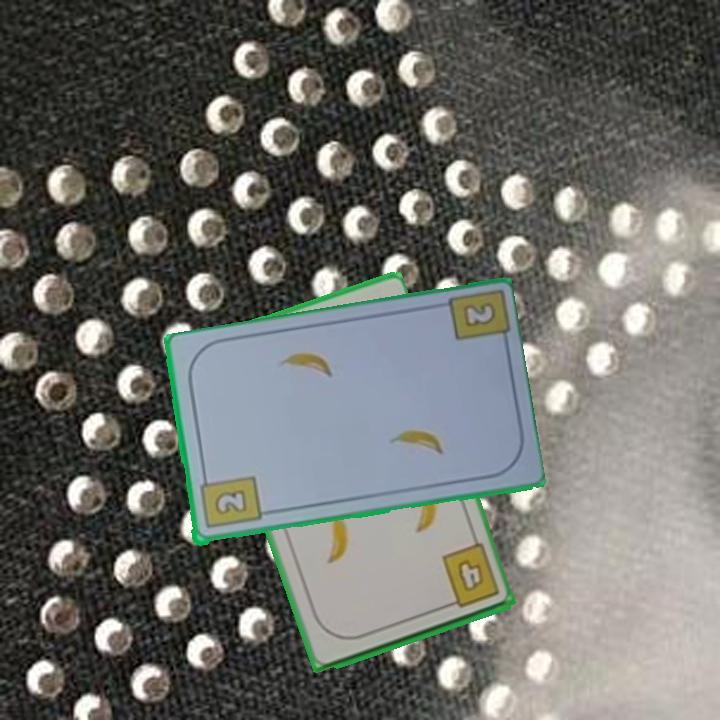2b: (196, 471, 263, 532), (463, 302, 495, 328)
4b: (437, 539, 502, 611)
